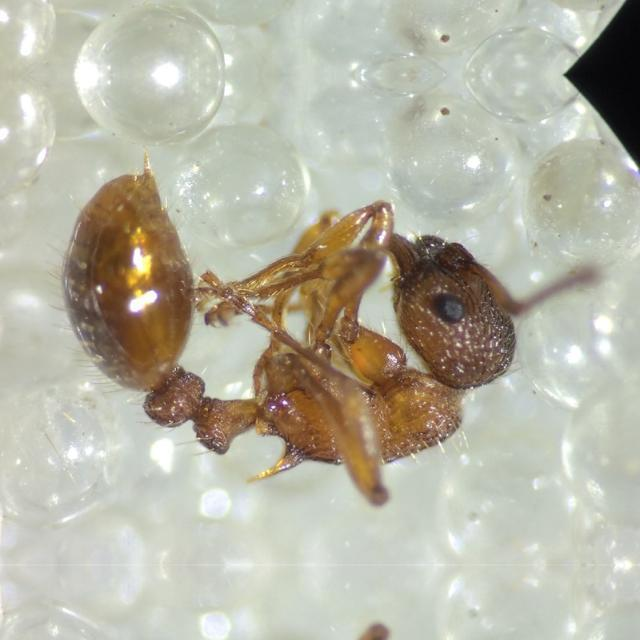Myrmica: (73, 158, 551, 470)
